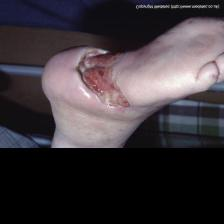Wound: (71, 46, 135, 109)
